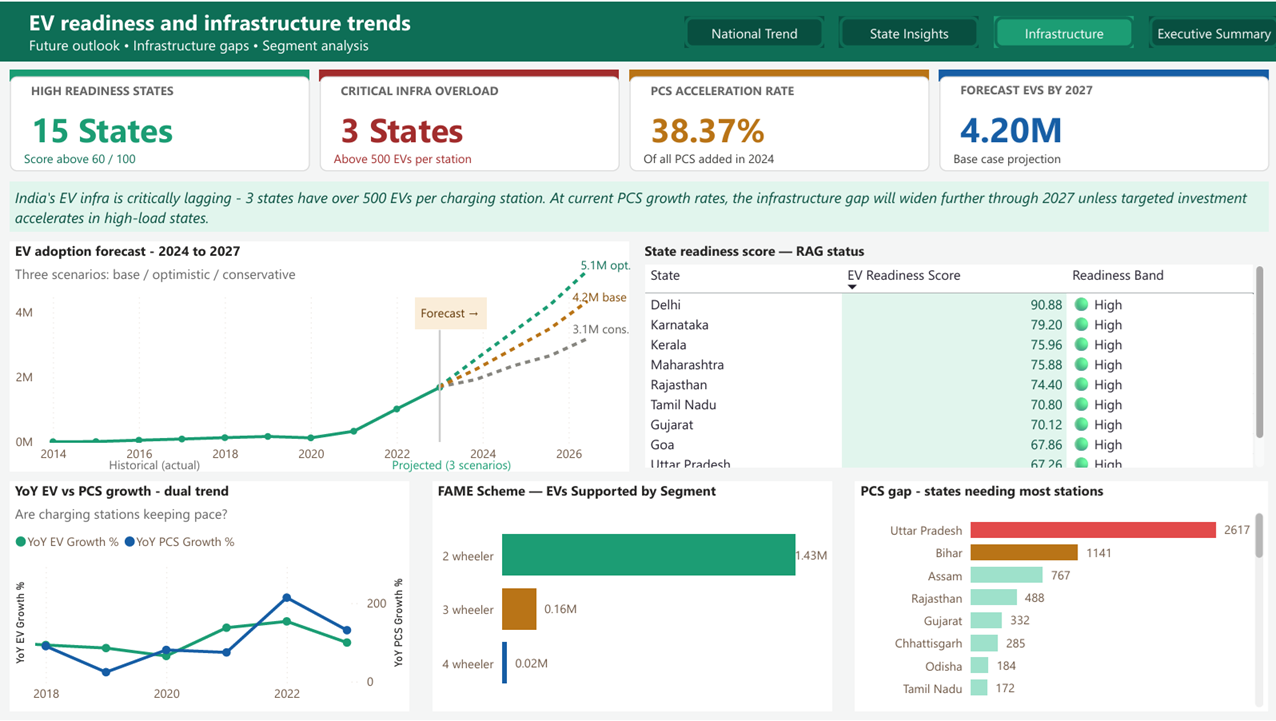

Layout of this report page (visuals, bound fields, positions):
{"tool":"powerbi","page":{"name":"Infrastructure","canvas":[1280,720],"ordinal":2},"visuals":[{"type":"shape","box":[0,0,1280,60],"z":0},{"type":"textbox","box":[24,0,880,80],"z":1000},{"type":"actionButton","box":[685,14,140,32],"z":2000},{"type":"actionButton","box":[840,14,140,32],"z":3000},{"type":"actionButton","box":[995,14,140,32],"z":4000},{"type":"actionButton","box":[1150,14,130,32],"z":5000},{"type":"shape","box":[10,68,300,12],"z":6000},{"type":"cardVisual","fields":{"Data":["EV Share %.States Above Avg EV Share"]},"box":[10,74,300,95],"z":7000},{"type":"shape","box":[320,68,300,12],"z":8000},{"type":"cardVisual","fields":{"Data":["EV Share %.Critical Overload States"]},"box":[320,74,300,95],"z":9000},{"type":"textbox","box":[16,144,304,80],"z":10000},{"type":"textbox","box":[326,144,304,80],"z":11000},{"type":"shape","box":[630,68,300,12],"z":12000},{"type":"cardVisual","fields":{"Data":["Year-wise EVPCS.PCS Acceleration Rate"]},"box":[630,74,300,95],"z":13000},{"type":"textbox","box":[636,144,304,80],"z":14000},{"type":"shape","box":[940,68,330,12],"z":15000},{"type":"cardVisual","fields":{"Data":["Forecast_Scenarios.Forecast Base 2027"]},"box":[940,74,330,95],"z":16000},{"type":"textbox","box":[946,144,334,80],"z":17000},{"type":"textbox","box":[10,180,1260,50],"z":18000},{"type":"lineChart","title":"EV adoption forecast - 2024 to 2027","fields":{"Category":["Year-wise EV Registrations.Year"],"Y":["Year-wise EV Registrations.Total EVs"]},"box":[10,240,620,230],"z":19000},{"type":"lineChart","fields":{"Category":["Forecast_Scenarios.Year"],"Y":["Sum(Forecast_Scenarios.Optimistic)","Sum(Forecast_Scenarios.Conservative)","Sum(Forecast_Scenarios.Base)"]},"box":[90,224,624,224],"z":20000},{"type":"shape","box":[160,328,560,112],"z":21000},{"type":"textbox","box":[416,296,72,32],"z":22000},{"type":"textbox","box":[576,248,72,32],"z":23000},{"type":"textbox","box":[568,280,80,40],"z":24000},{"type":"textbox","box":[568,312,104,32],"z":25000},{"type":"textbox","box":[104,448,128,32],"z":26000},{"type":"textbox","box":[384,448,168,32],"z":27000},{"type":"tableEx","title":"State readiness score — RAG status","fields":{"Values":["State_Dim.State","EV Share %.EV Readiness Score","EV Share %.Readiness Band"]},"box":[640,240,630,230],"z":28000},{"type":"lineChart","title":"YoY EV vs PCS growth - dual trend","fields":{"Y":["Year-wise EV Registrations.YoY EV Growth %"],"Y2":["Year-wise EV Registrations.YoY PCS Growth %"],"Category":["Year-wise EV Registrations.Year"]},"box":[10,480,400,230],"z":29000},{"type":"clusteredBarChart","title":"FAME Scheme — EVs Supported by Segment","fields":{"Category":["Segment-wise EV Support (FAME Scheme).Segment"],"Y":["Sum(Segment-wise EV Support (FAME Scheme).EV_Supported)"]},"box":[433,480,400,230],"z":30000},{"type":"clusteredBarChart","title":"PCS gap - states needing most stations","fields":{"Category":["State_Dim.State"],"Y":["EV Share %.PCS Gap"]},"box":[856,480,413,230],"z":31000}]}

Visuals, with their boxes in screenshot pixels (x1, y1, x2, y2), scaled from the page's 1280x720 canvas onto the 1276x721 screenshot:
shape: [0, 0, 1275, 60]
textbox: [24, 0, 901, 80]
actionButton: [683, 14, 822, 46]
actionButton: [837, 14, 977, 46]
actionButton: [992, 14, 1131, 46]
actionButton: [1146, 14, 1275, 46]
shape: [10, 68, 309, 80]
cardVisual - EV Share %.States Above Avg EV Share: [10, 74, 309, 169]
shape: [319, 68, 618, 80]
cardVisual - EV Share %.Critical Overload States: [319, 74, 618, 169]
textbox: [16, 144, 319, 224]
textbox: [325, 144, 628, 224]
shape: [628, 68, 927, 80]
cardVisual - Year-wise EVPCS.PCS Acceleration Rate: [628, 74, 927, 169]
textbox: [634, 144, 937, 224]
shape: [937, 68, 1266, 80]
cardVisual - Forecast_Scenarios.Forecast Base 2027: [937, 74, 1266, 169]
textbox: [943, 144, 1275, 224]
textbox: [10, 180, 1266, 230]
"EV adoption forecast - 2024 to 2027" lineChart: [10, 240, 628, 471]
lineChart - Forecast_Scenarios.Year x Sum(Forecast_Scenarios.Optimistic): [90, 224, 712, 449]
shape: [160, 328, 718, 441]
textbox: [415, 296, 486, 328]
textbox: [574, 248, 646, 280]
textbox: [566, 280, 646, 320]
textbox: [566, 312, 670, 344]
textbox: [104, 449, 231, 481]
textbox: [383, 449, 550, 481]
"State readiness score — RAG status" tableEx: [638, 240, 1266, 471]
"YoY EV vs PCS growth - dual trend" lineChart: [10, 481, 409, 711]
"FAME Scheme — EVs Supported by Segment" clusteredBarChart: [432, 481, 830, 711]
"PCS gap - states needing most stations" clusteredBarChart: [853, 481, 1265, 711]
